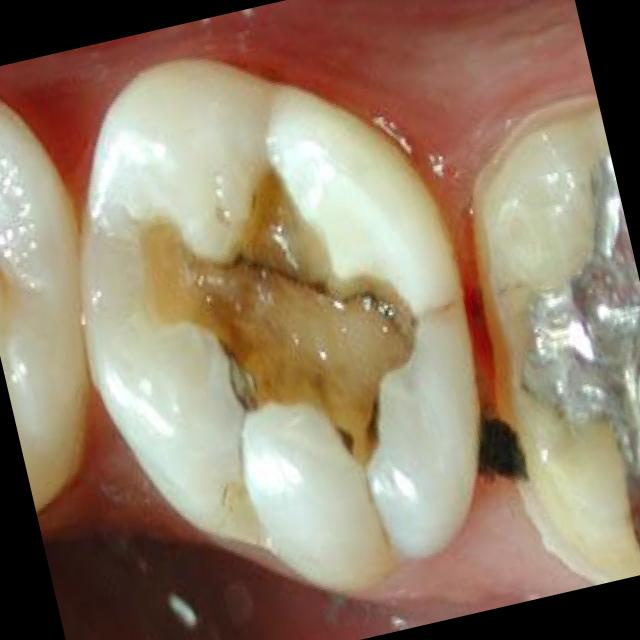Caries: (478, 417, 528, 481), (366, 401, 379, 443), (338, 427, 353, 457), (270, 267, 298, 283), (220, 256, 243, 269), (309, 282, 327, 295)
Cavity: (138, 158, 420, 467)
Tooth: (76, 61, 482, 590), (466, 98, 640, 580), (0, 99, 88, 521)
